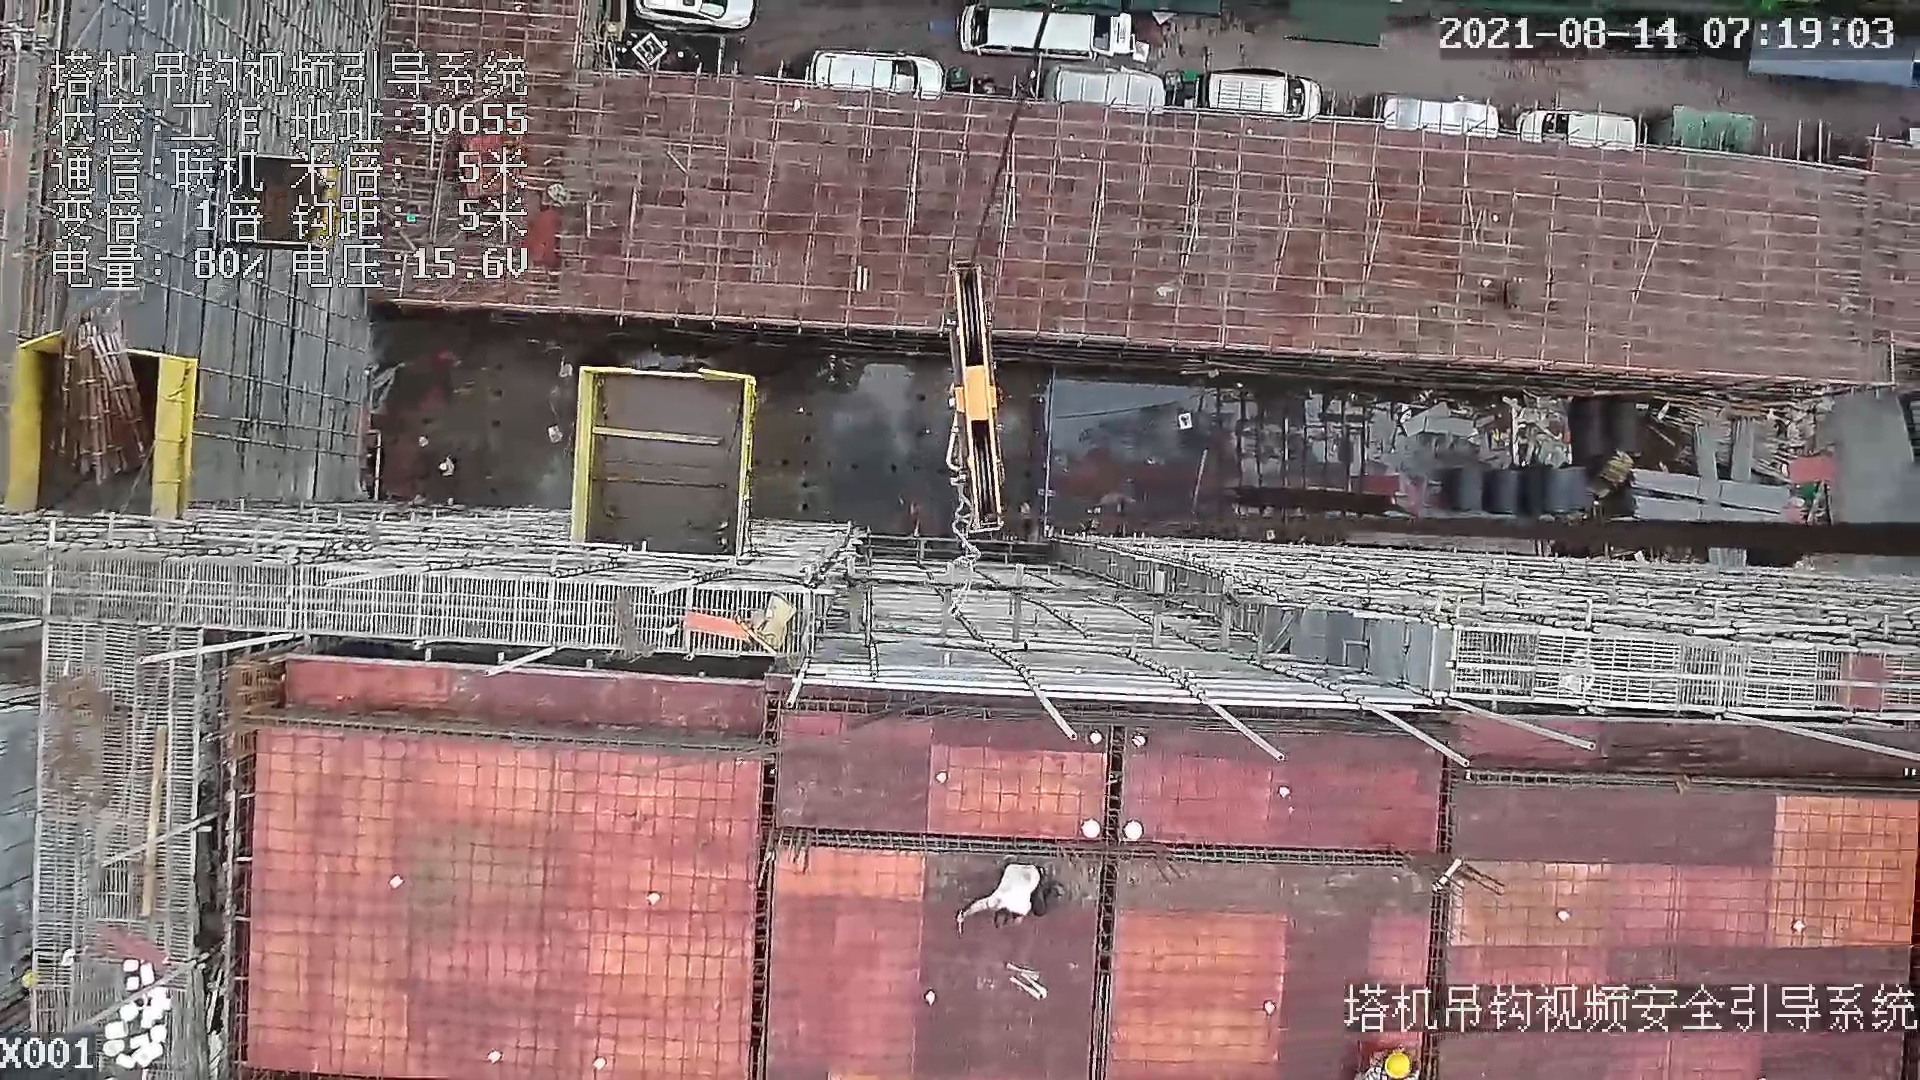helmet: (1380, 1052, 1411, 1076)
hook: (935, 258, 1017, 531)
person: (956, 864, 1055, 921)
